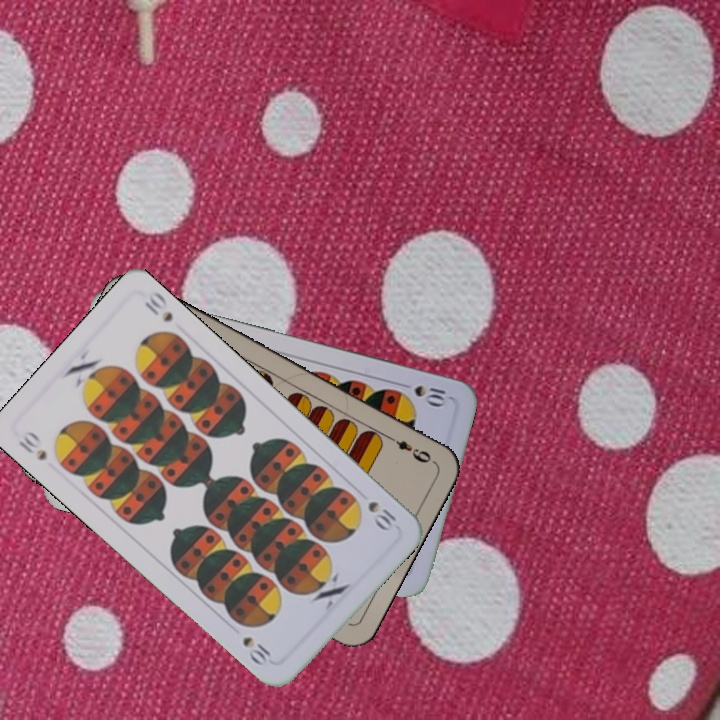E9: (382, 431, 436, 466)
S10: (394, 380, 452, 408), (363, 497, 400, 534), (14, 427, 50, 463)
